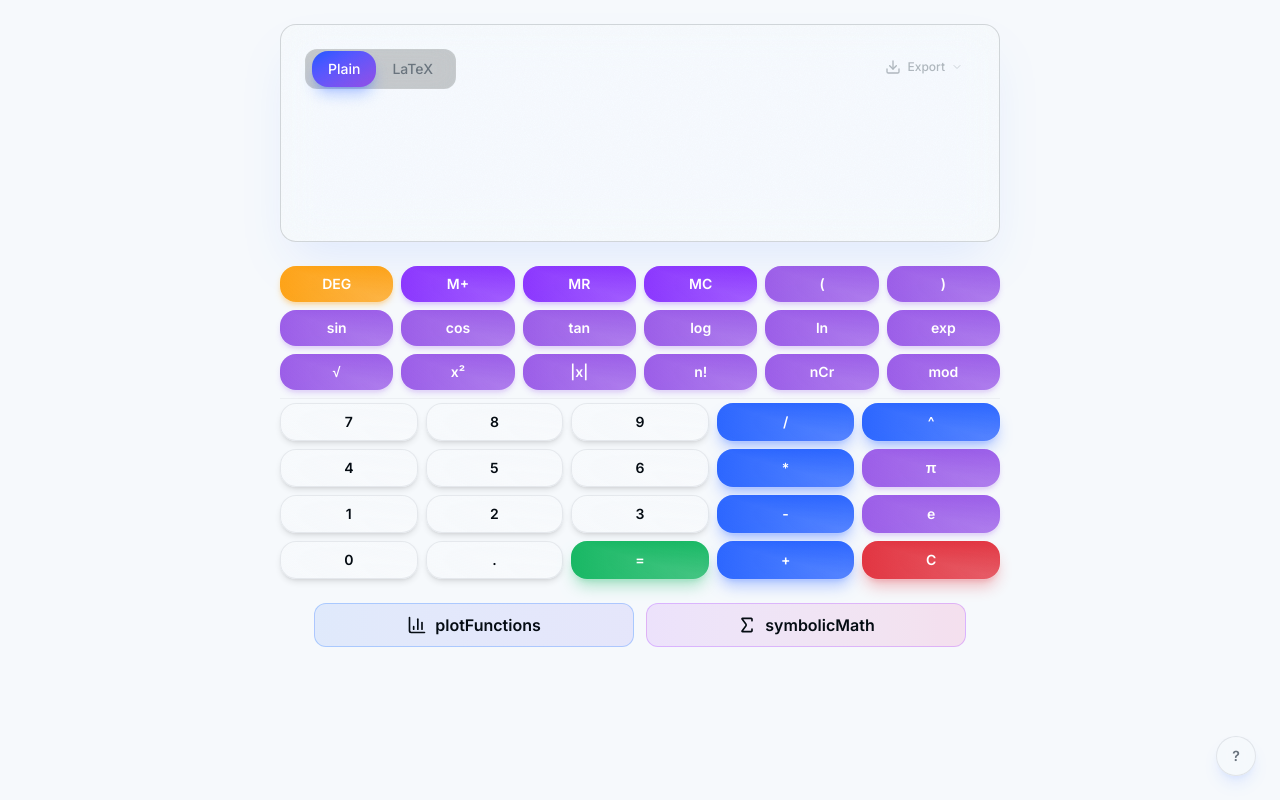
Test: Calculator Component › handles special functions
The width and height of the screenshot is (1280, 800).
Note: Click sin button — aria-label is "sine"
Click the cell named "sine": (337, 328) [280,310,393,346]
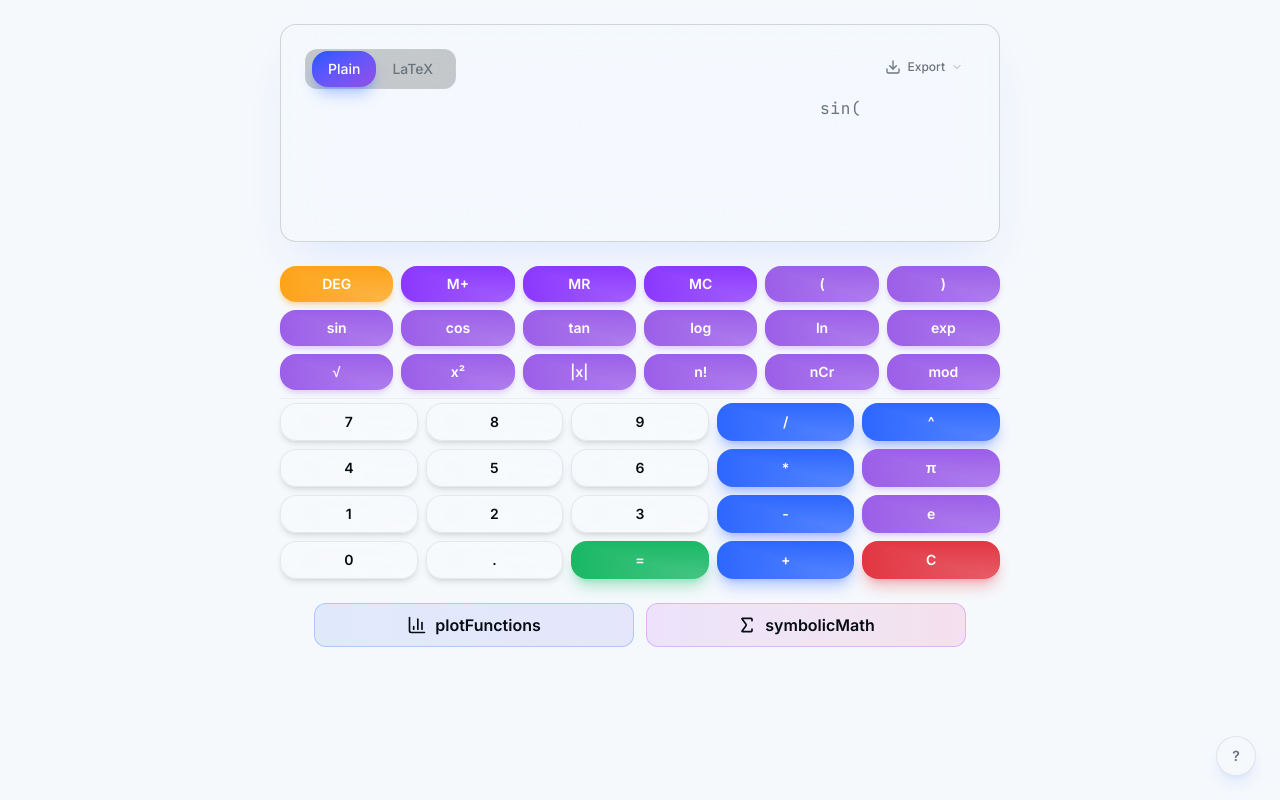
Expected: the message named "current expression" shows "sin", [820,98,862,119]
